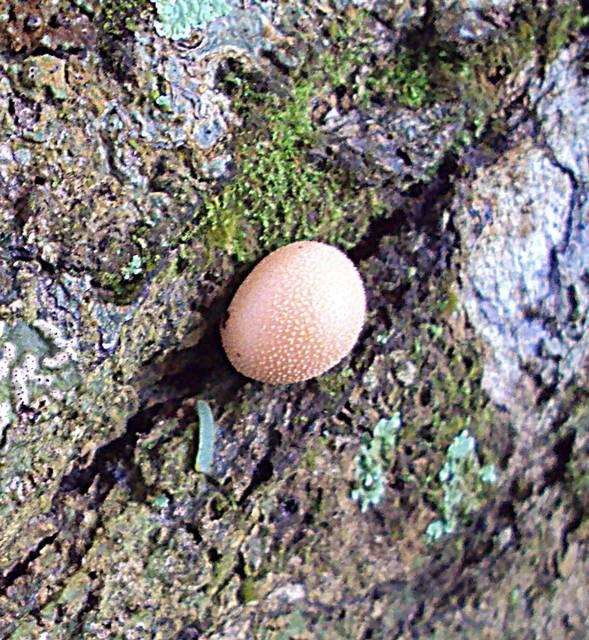poisonous_mushroom: (218, 238, 367, 386)
